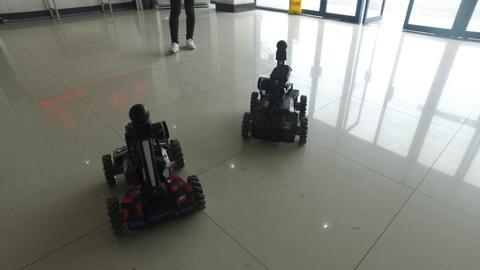chariot: (93, 100, 214, 241), (234, 37, 318, 149)
